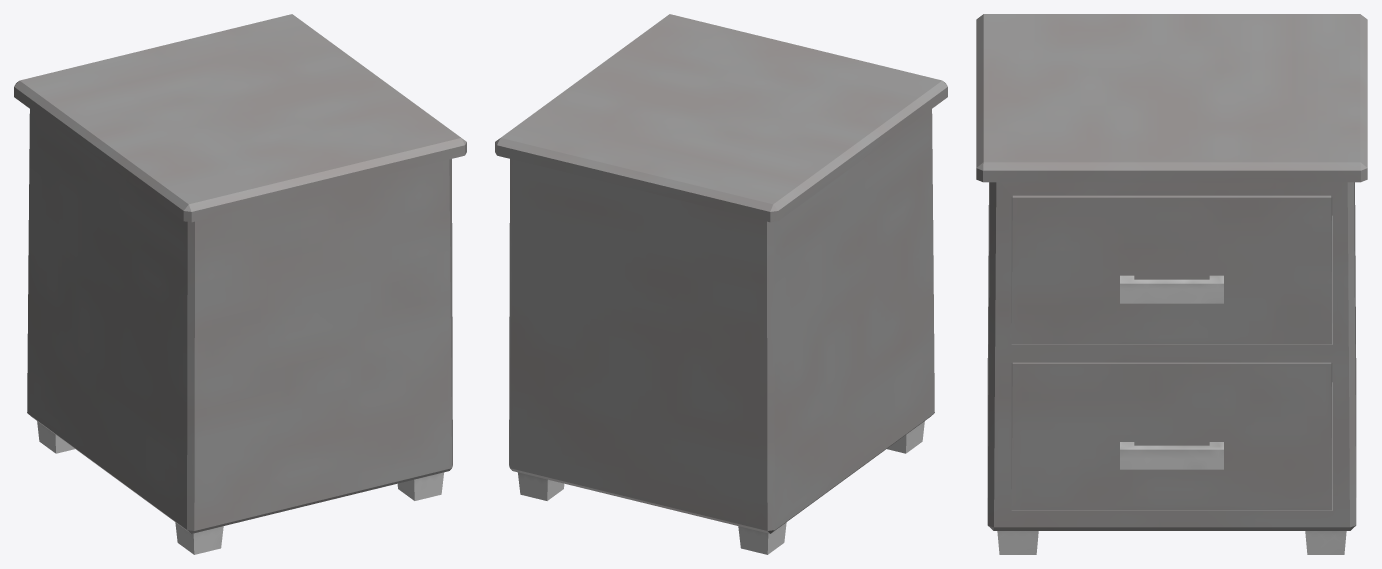
The model's file is Cabinet_Small.fbx.
The picture shows the model from 3 angles, left to right: view 1: azimuth 30°, elevation 25°; view 2: azimuth 150°, elevation 25°; view 3: azimuth 270°, elevation 25°; orthographic projection. The views are drawn at different scales.
Visible parts, largest first — view 1: Cabinet_Small; view 2: Cabinet_Small; view 3: Cabinet_Small.
Part boxes in pixels (box(x1,y1,x2,y2)): Cabinet_Small: box(14, 14, 466, 554); Cabinet_Small: box(495, 14, 947, 554); Cabinet_Small: box(976, 14, 1367, 554).
Size of the model in its own units: 59.98 by 71.27 by 63.24.
